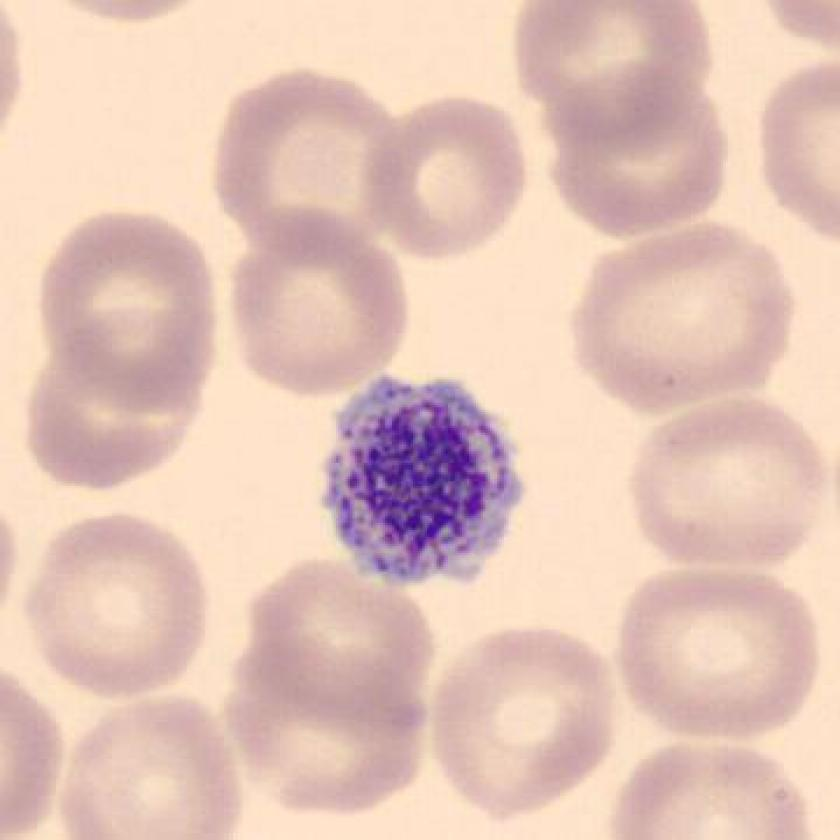platelets: (318, 371, 533, 598)
